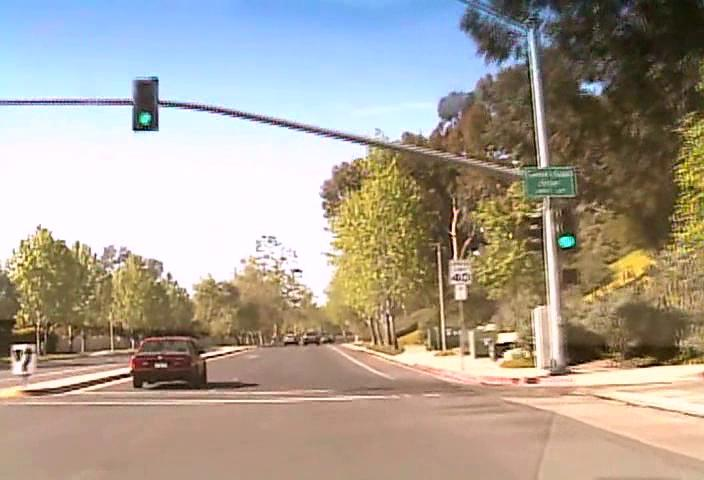speedLimit40: (448, 258, 471, 285)
